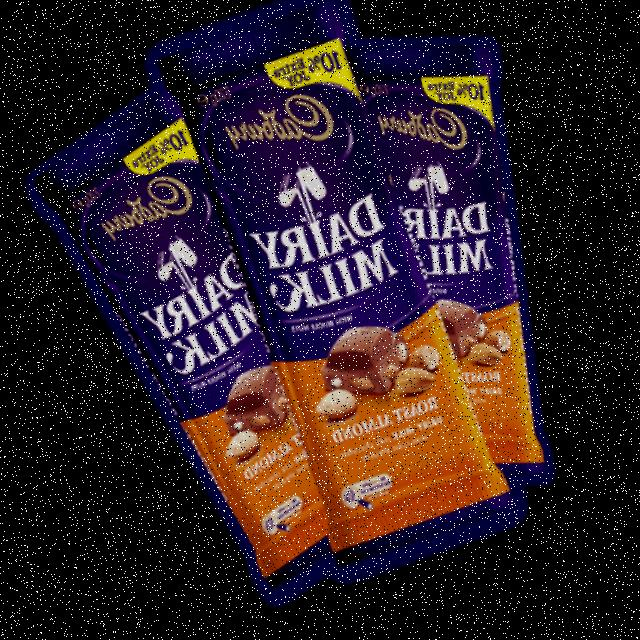cadbury: (127, 0, 535, 594), (17, 61, 399, 630), (282, 0, 640, 546)
